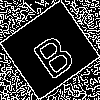B: (25, 24, 79, 82)
